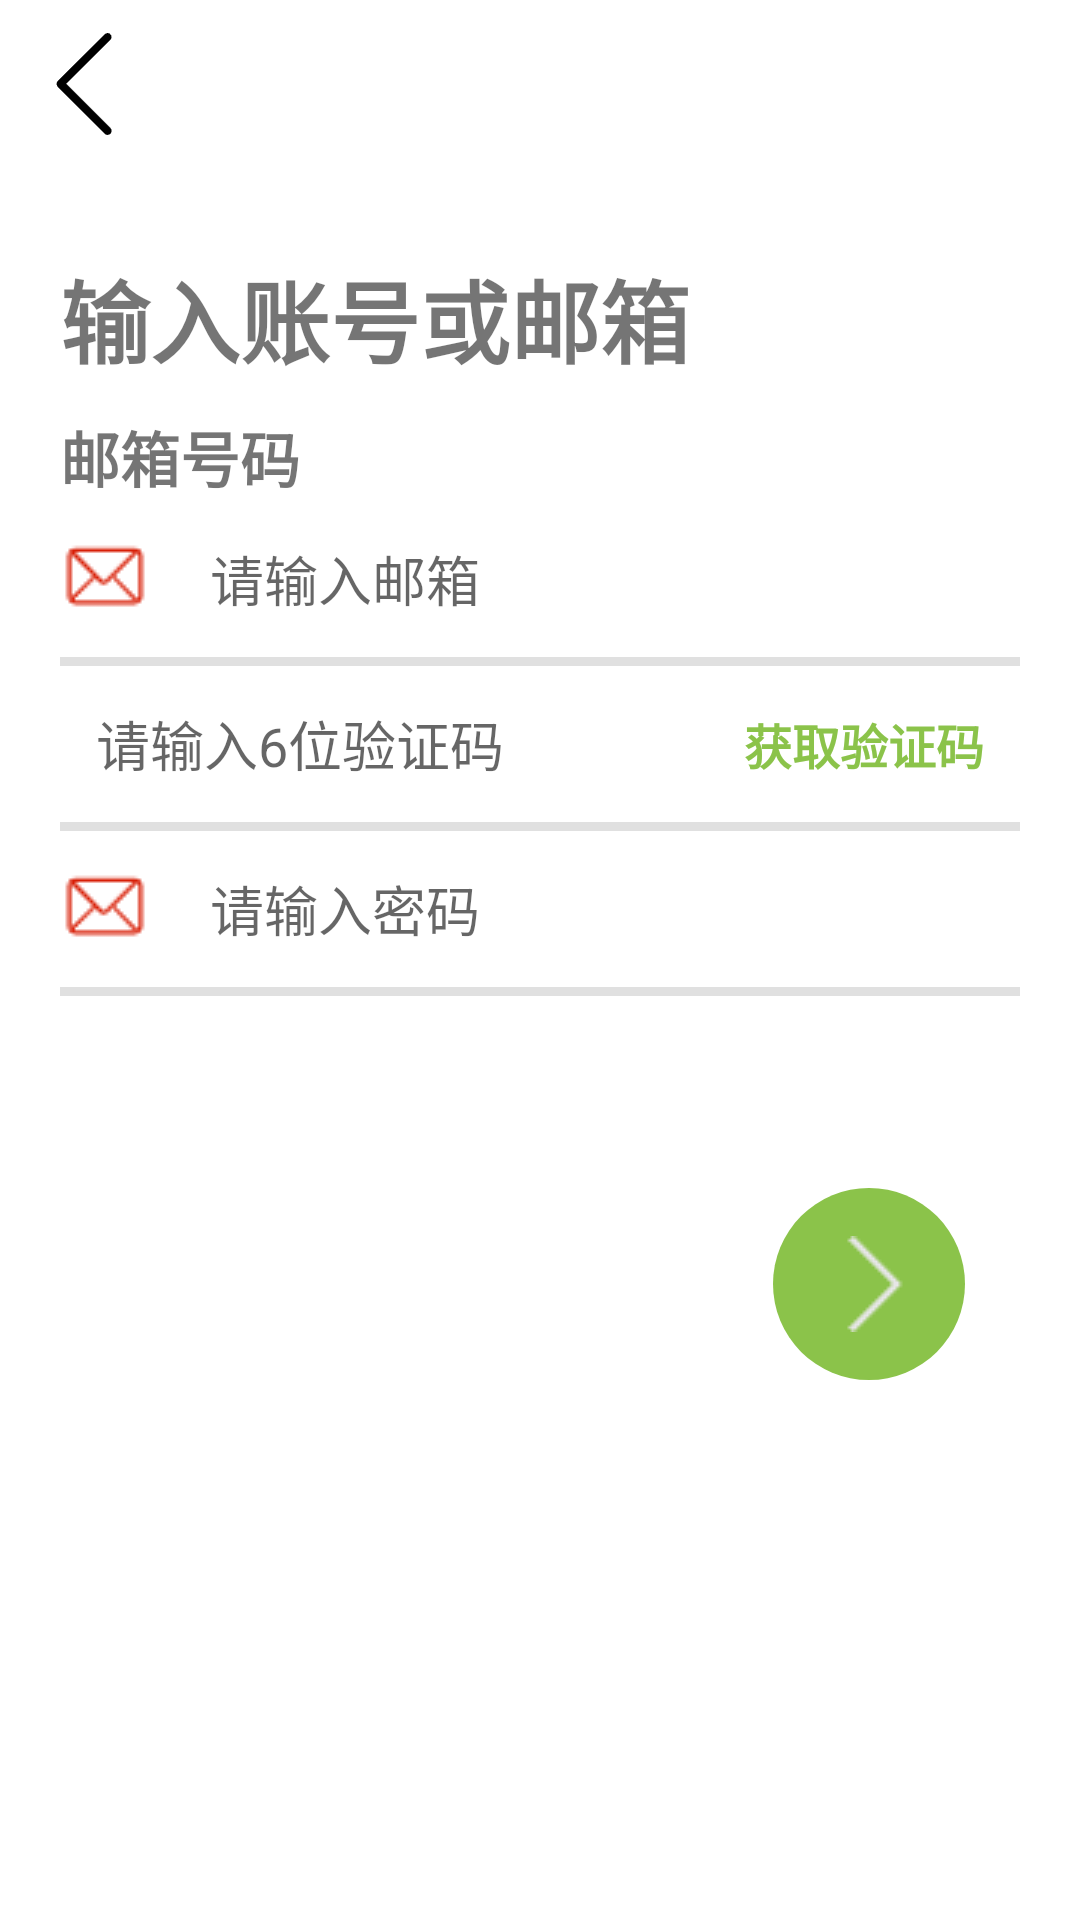

Locate icon controls on the screen. Image size 1080 × 1920, boxes as (x1, y1, x2, y2).
email: (65, 546, 145, 607), (65, 876, 145, 937)
right arrow: (773, 1188, 965, 1380)
